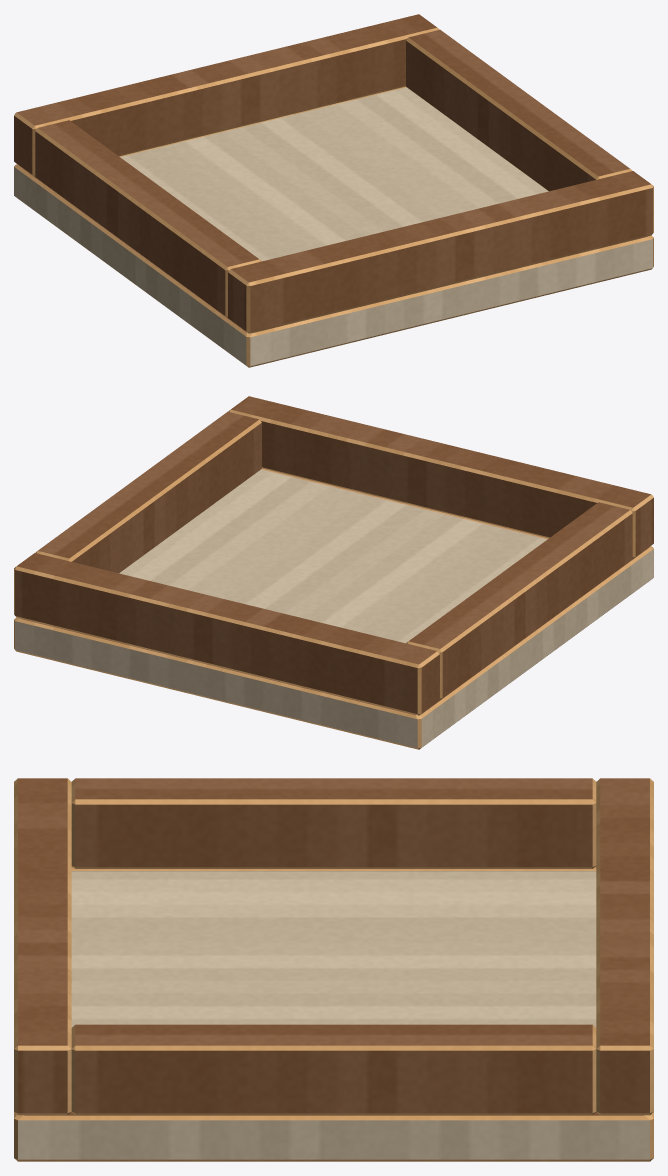
The model's file is sm_terrain_tile_planter_edge.glb.
3 views of the same model, one above another, from view 1: azimuth 30°, elevation 25°; view 2: azimuth 150°, elevation 25°; view 3: azimuth 270°, elevation 25° (orthographic). The views are drawn at different scales.
Parts seen in each view (by area): view 1: sm_terrain_tile_planter_edge; view 2: sm_terrain_tile_planter_edge; view 3: sm_terrain_tile_planter_edge.
Boxes of the visible parts, box(x1,y1,x2,y2) form: sm_terrain_tile_planter_edge: box(14, 14, 653, 367); sm_terrain_tile_planter_edge: box(14, 396, 653, 749); sm_terrain_tile_planter_edge: box(14, 778, 653, 1161).
Size of the model in its own units: 1 by 0.2 by 1.
Materials: 1 (1 with a texture image).
